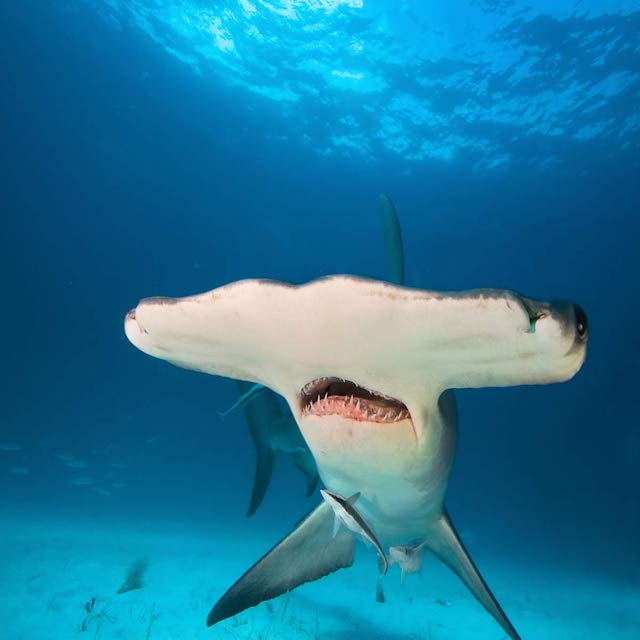hammerhead: (85, 221, 640, 483)
